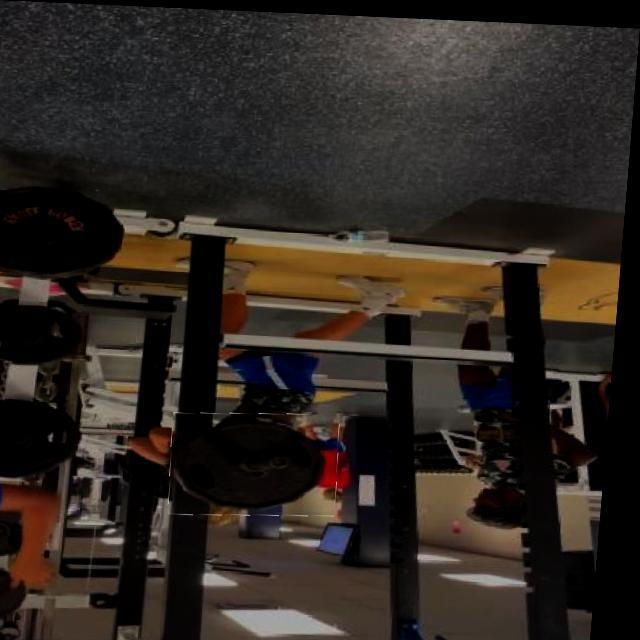barbell: (176, 408, 350, 517)
